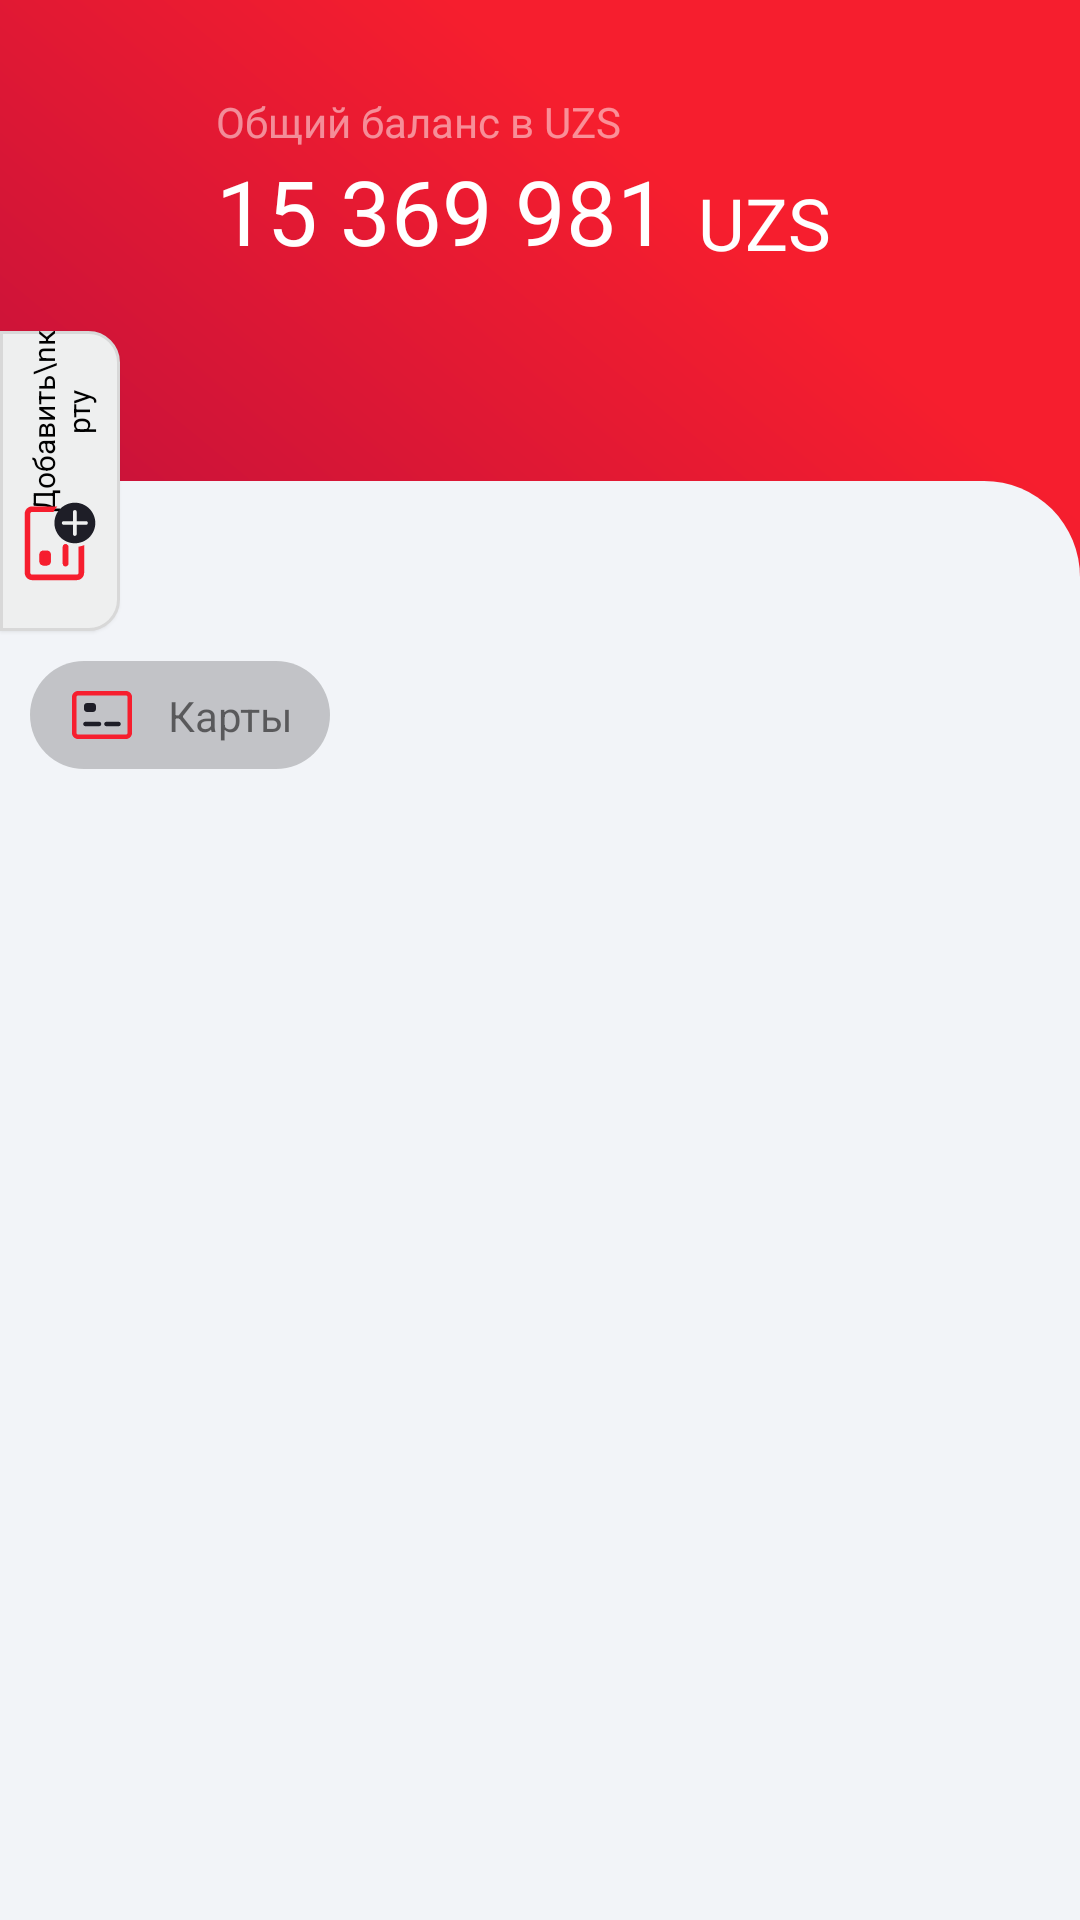

Where to tap for icons on this 1080px×1920px app screen, as point (x, y):
card: point (102, 715)
